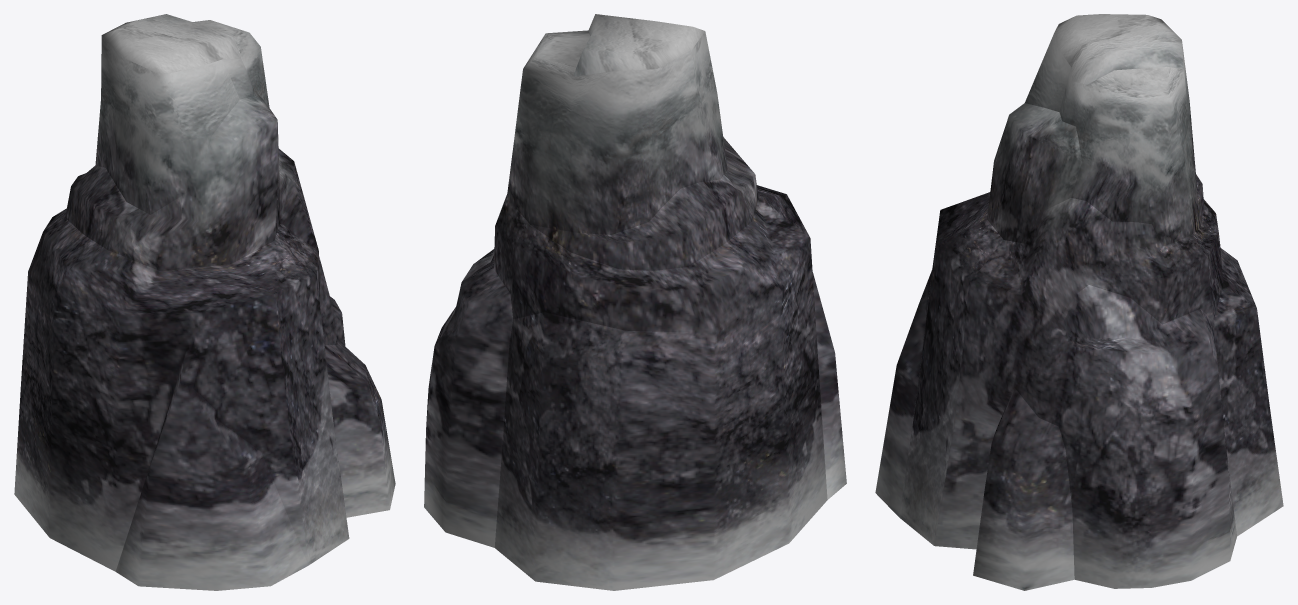
The model's file is snow_d_a03b.fbx.
3 renders of one model, left to right at view 1: azimuth 30°, elevation 25°; view 2: azimuth 150°, elevation 25°; view 3: azimuth 270°, elevation 25°, orthographic. The views are drawn at different scales.
Parts seen in each view (by area): view 1: d_a03b; view 2: d_a03b; view 3: d_a03b.
Part boxes in pixels (x1,y1,x2,y2): d_a03b: (14,14,395,590); d_a03b: (424,14,846,590); d_a03b: (875,14,1283,590).
Size of the model in its own units: 1308 by 1836 by 1450.
